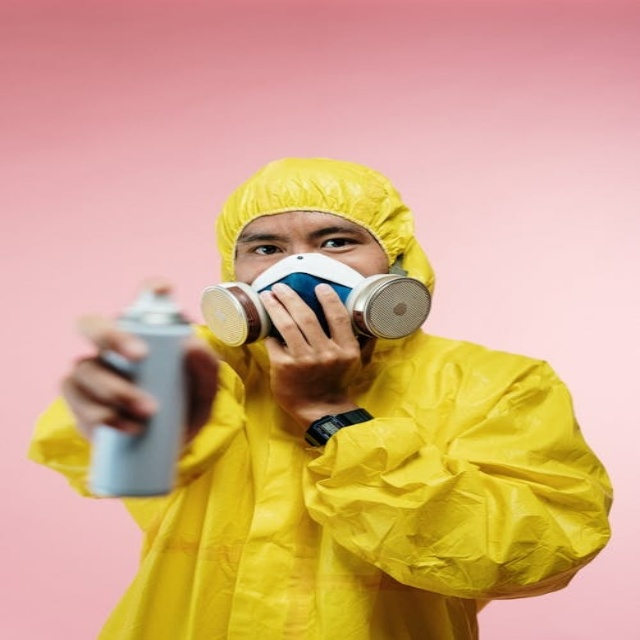Sin_gafas: (238, 224, 361, 259)
Sin_guantes: (64, 289, 215, 449), (257, 285, 369, 417)
